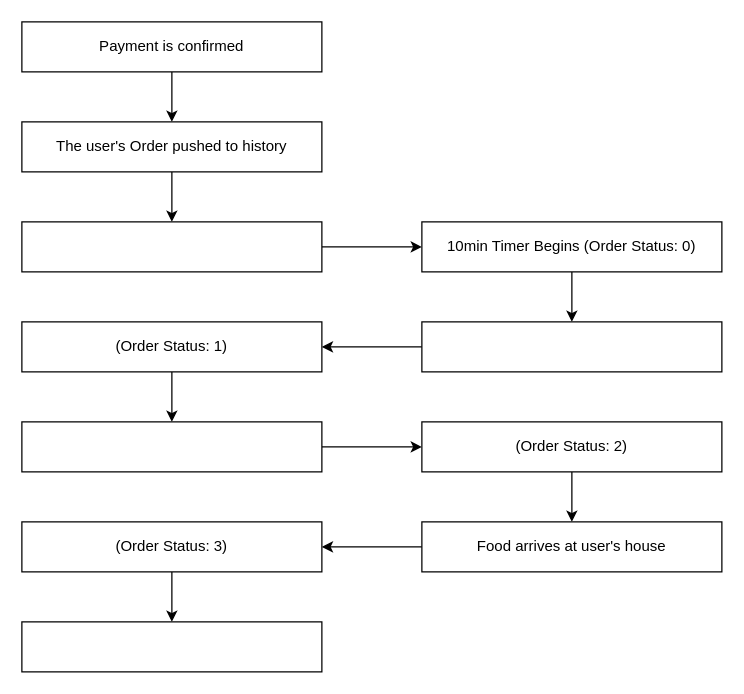
The diagram is 744 pixels wide and 694 high, and some of its shapes have lost their labels. The box of each missing label's shape, as (x1, y1, x2, y2) in pixels:
Progress bar is full ("Order complete, thx!"): (21, 621, 322, 672)
Redirect to Order Tracking page: (21, 221, 322, 272)
Start another timer with yorkdale > user: (21, 421, 322, 472)
Update Order Tracking Progress Bar: (421, 321, 722, 372)
